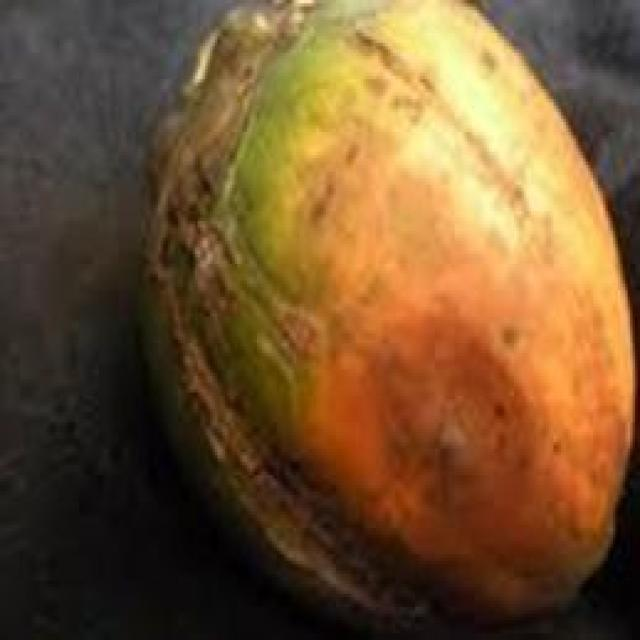good: (138, 0, 638, 637)
